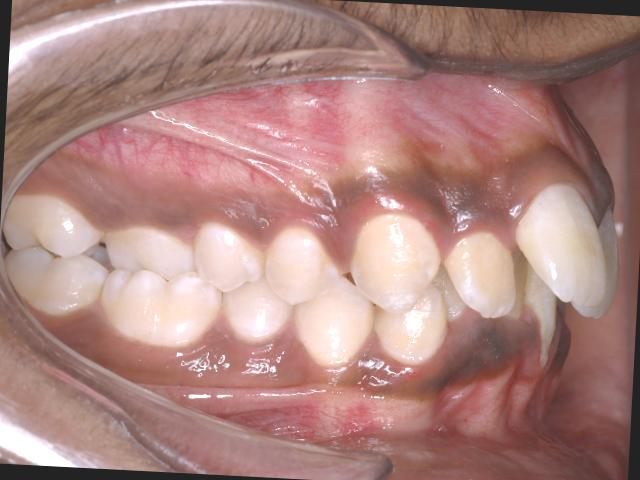canine class II 1/4: (290, 203, 458, 387)
molar class I: (100, 218, 230, 358)
